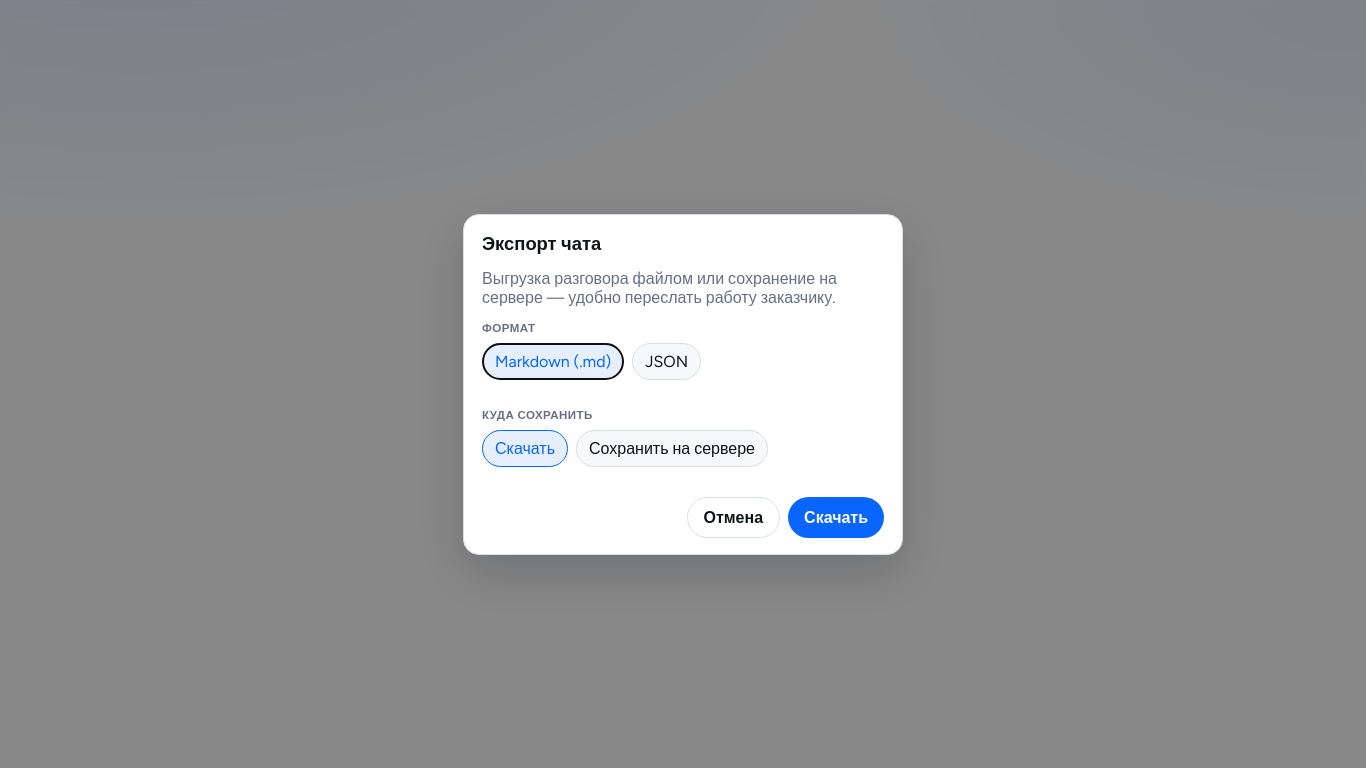
Test: ExportDialog › renders an api error inside the dialog
Step 1. Click the radio button labelled "JSON" → click(667, 361), box [632, 342, 701, 380]
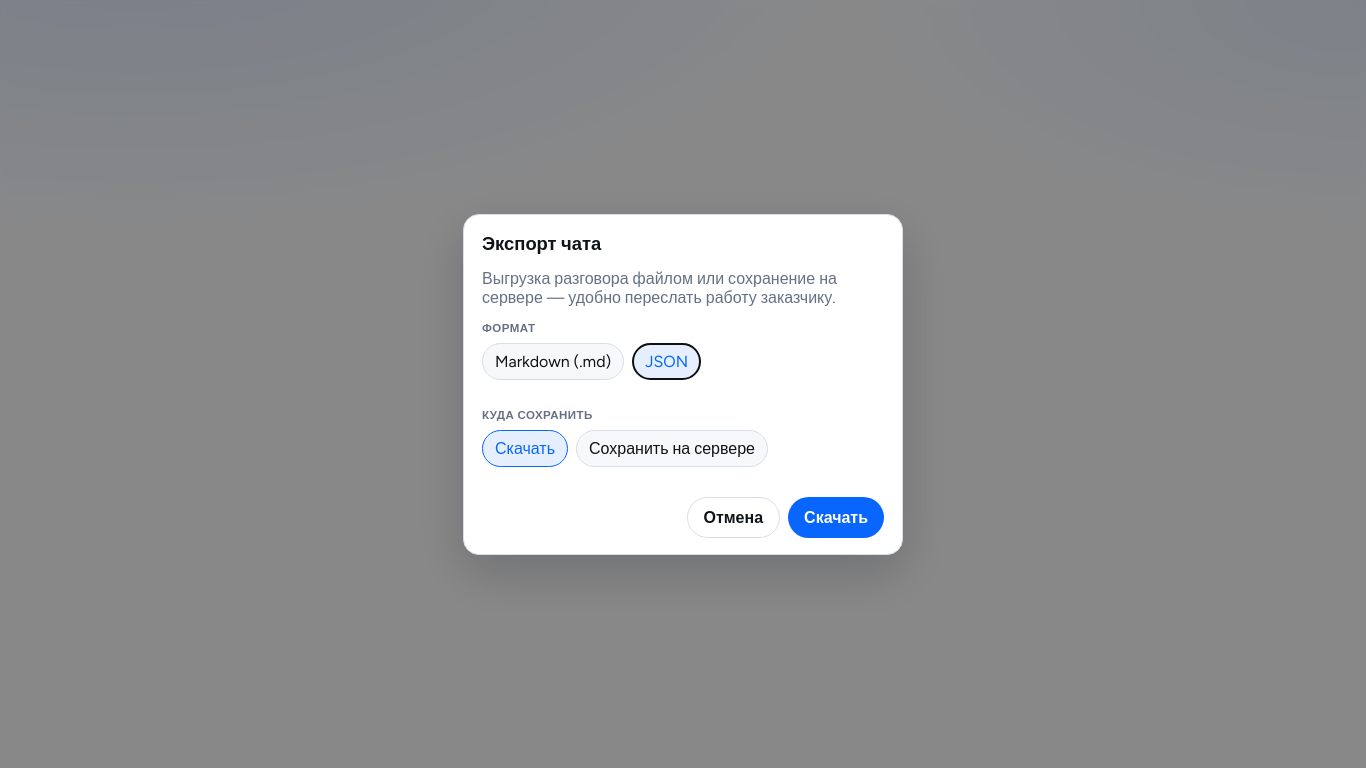
Step 2. Click the radio button labelled "Сохранить на сервере" → click(672, 448), box [576, 430, 768, 466]
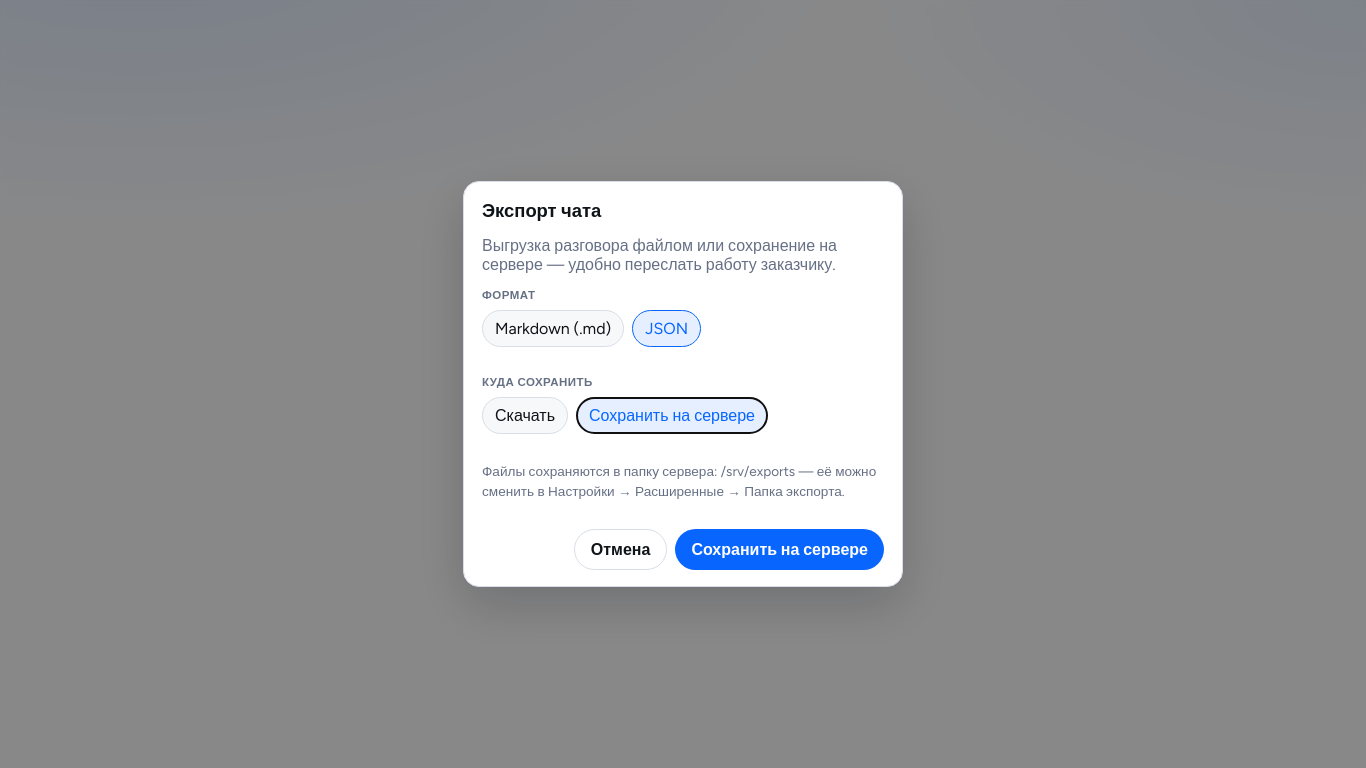
Step 3. Click the button "Сохранить на сервере" → click(780, 550), box [675, 529, 884, 570]
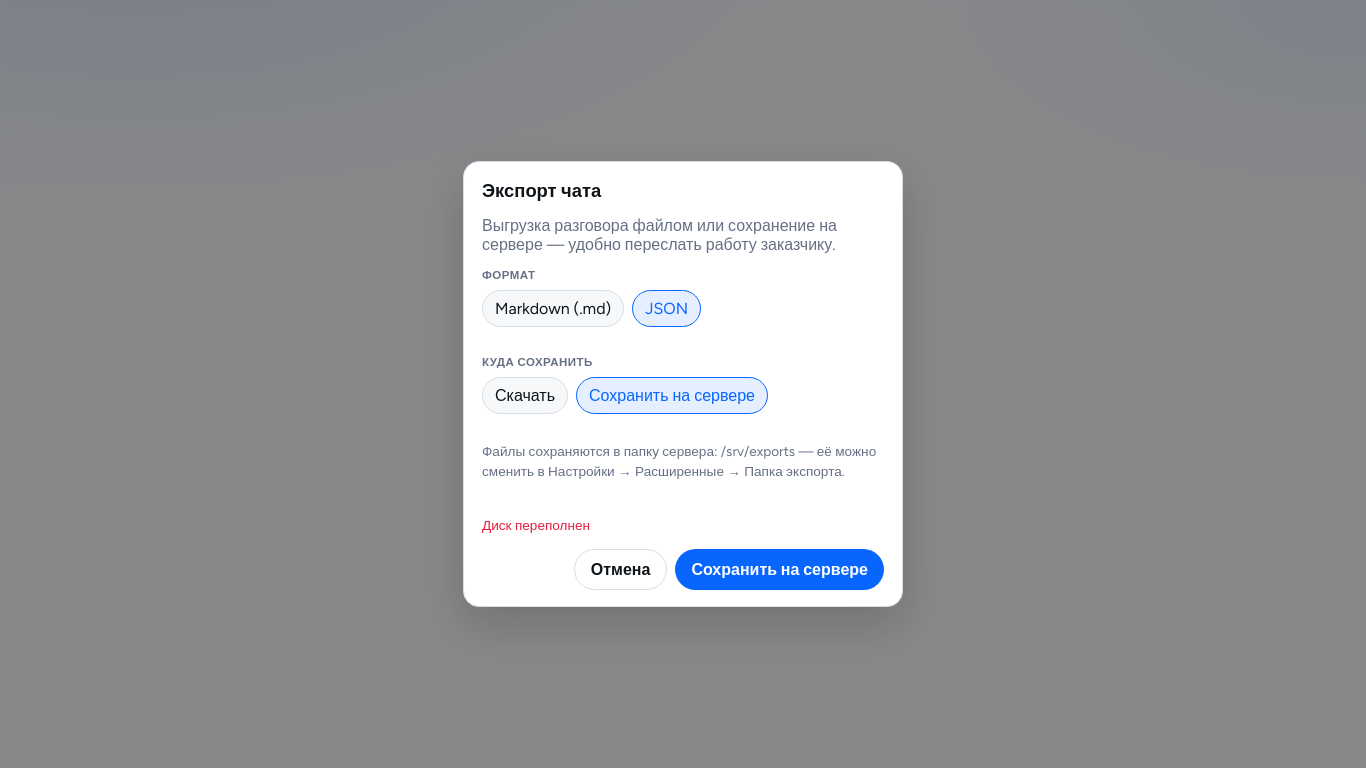
Expected: the text "Диск переполнен" is shown, [482, 517, 590, 533]
